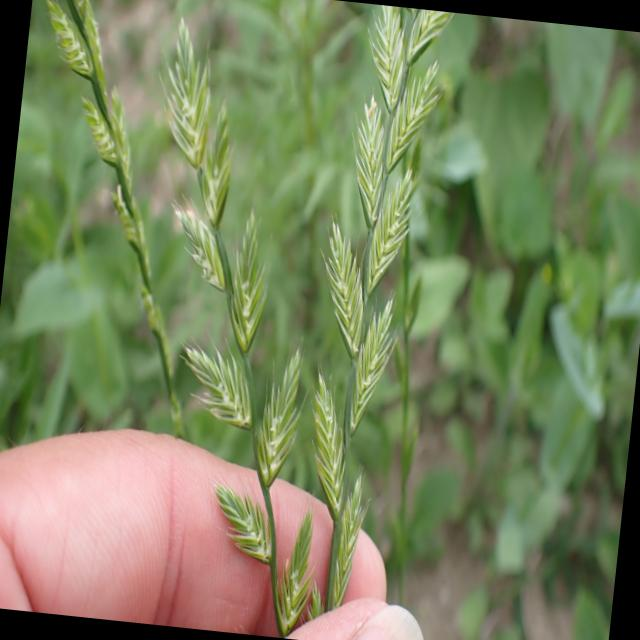Lolium: (114, 21, 366, 638), (284, 3, 446, 640), (0, 0, 230, 440)
